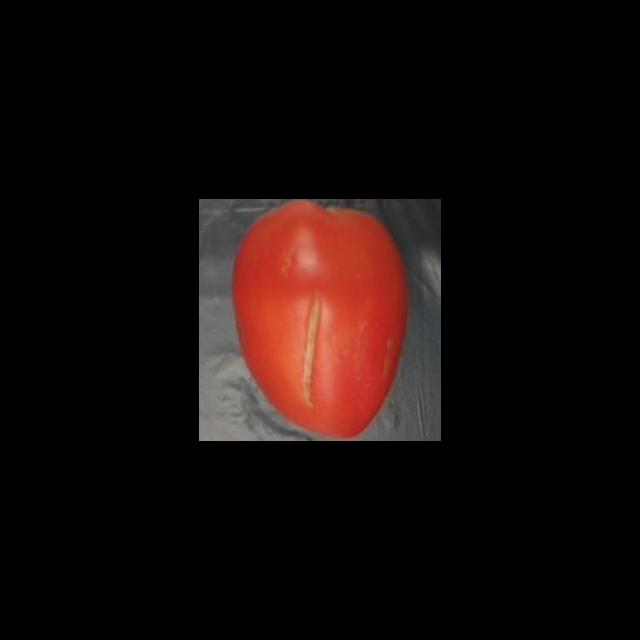tomato: (224, 200, 410, 441)
